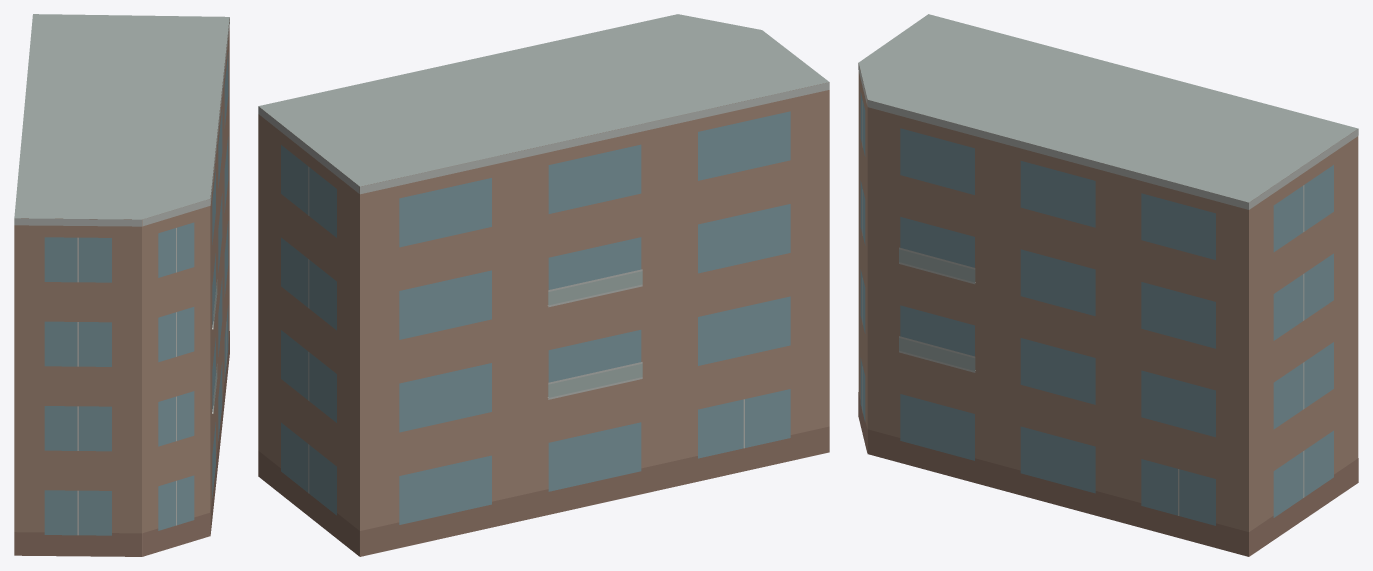
Rendered from survey-upis-32891502.glb.
3 renders of one model, left to right at view 1: azimuth 30°, elevation 25°; view 2: azimuth 150°, elevation 25°; view 3: azimuth 270°, elevation 25°, orthographic. The views are drawn at different scales.
Parts seen in each view (by area): view 1: survey-upis-32891502.tmp; view 2: survey-upis-32891502.tmp; view 3: survey-upis-32891502.tmp.
Part boxes in pixels (x1,y1,x2,y2): survey-upis-32891502.tmp: (14, 14, 229, 556); survey-upis-32891502.tmp: (258, 14, 829, 556); survey-upis-32891502.tmp: (858, 14, 1358, 556).
Bounding box in the file's own units: 13.37 × 11.7 × 14.97.
